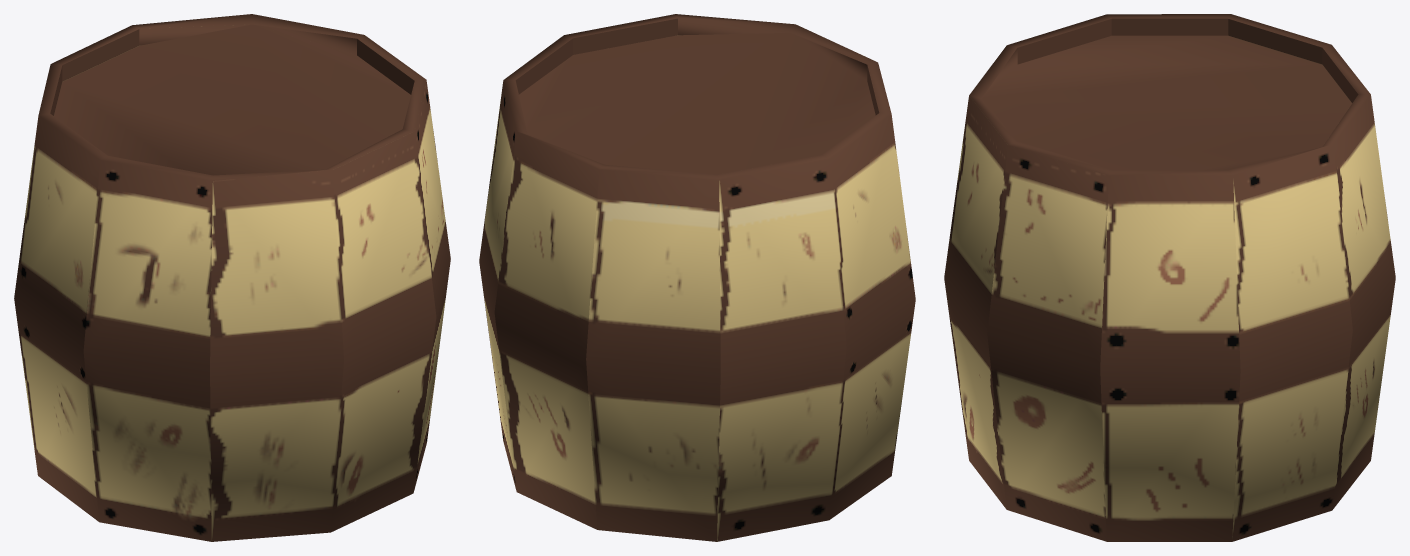
File: Bocka_lod1.fbx
3 renders of one model, left to right at view 1: azimuth 30°, elevation 25°; view 2: azimuth 150°, elevation 25°; view 3: azimuth 270°, elevation 25°, orthographic.
Visible parts, largest first — view 1: лод 1; view 2: лод 1; view 3: лод 1.
Part boxes in pixels (x1,y1,x2,y2): лод 1: [14, 14, 450, 541]; лод 1: [479, 14, 915, 541]; лод 1: [944, 14, 1395, 541].
Size of the model in its own units: 212 by 223 by 200.
